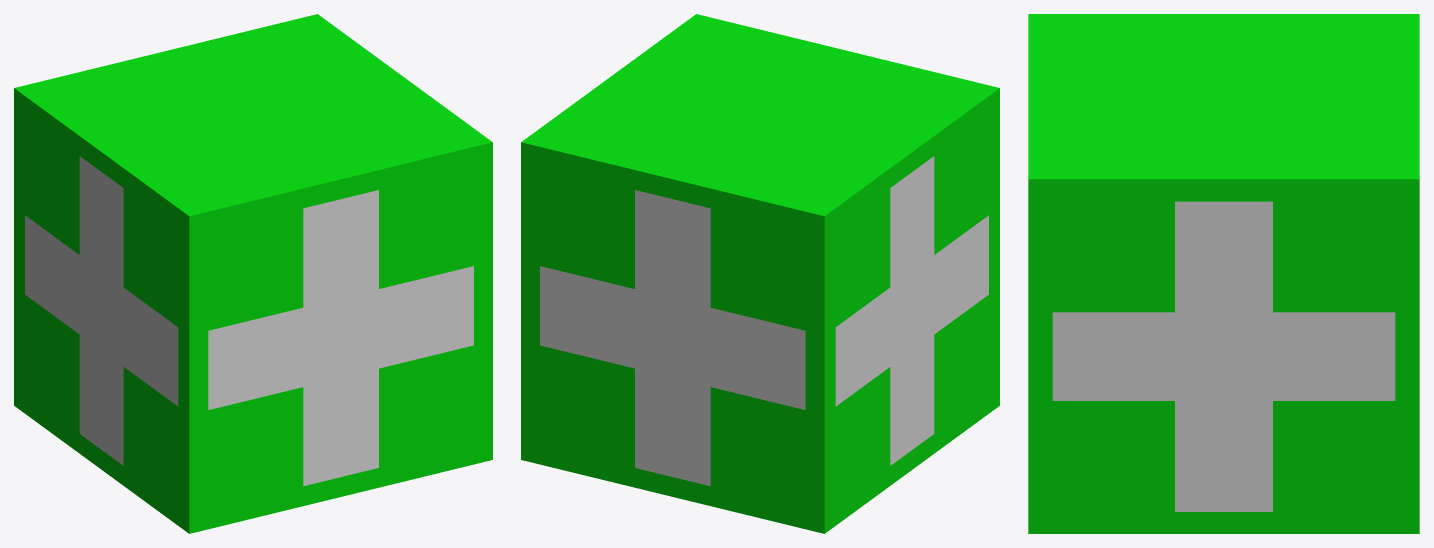
The model's file is Health.fbx.
The picture shows the model from 3 angles, left to right: view 1: azimuth 30°, elevation 25°; view 2: azimuth 150°, elevation 25°; view 3: azimuth 270°, elevation 25°; orthographic projection. The views are drawn at different scales.
Visible parts, largest first — view 1: 큐브; view 2: 큐브; view 3: 큐브.
Part boxes in pixels (x1,y1,x2,y2): 큐브: (14, 14, 492, 533); 큐브: (521, 14, 999, 533); 큐브: (1028, 14, 1419, 533).
Bounding box in the file's own units: 200 × 200 × 200.
